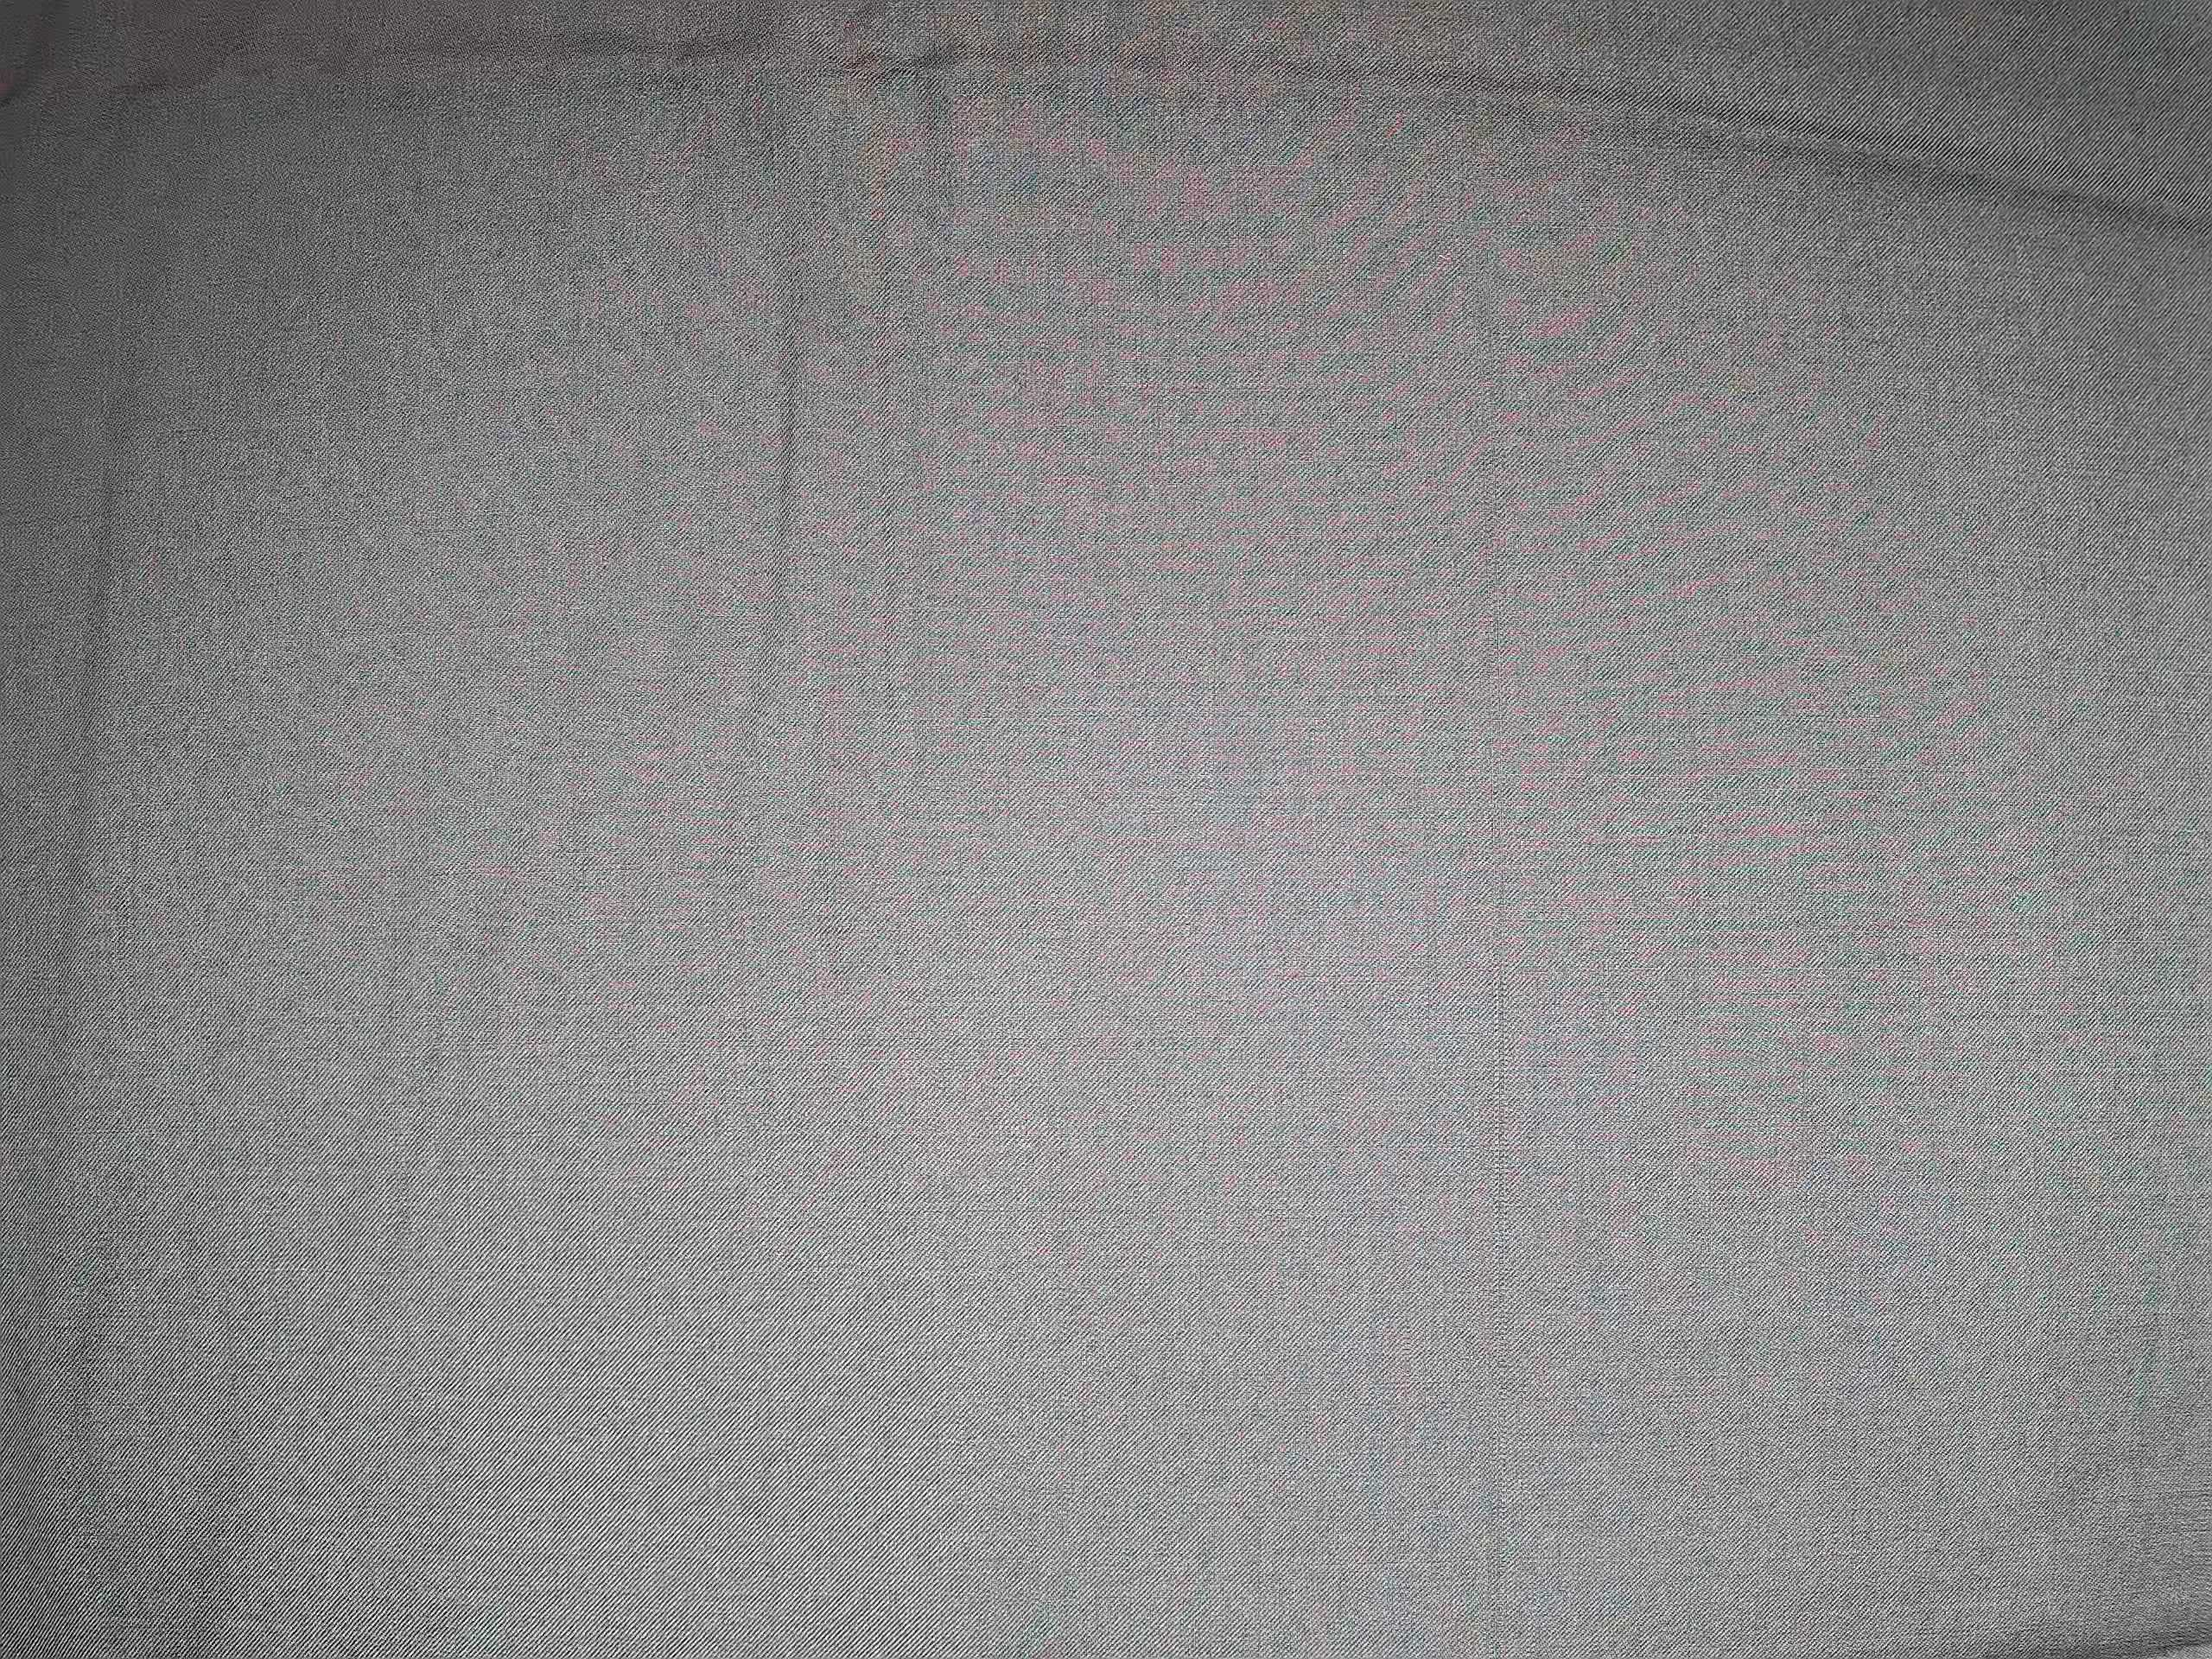hanging-warp: (1468, 854, 1545, 1647)
